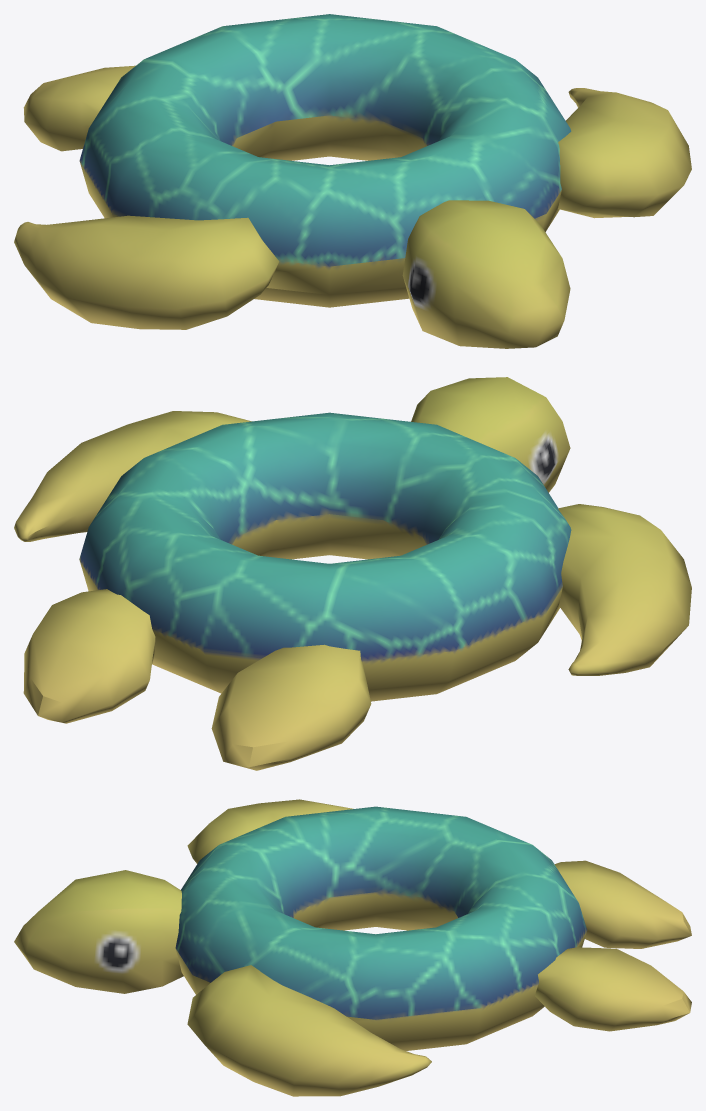
File: Phao6.fbx
The picture shows the model from 3 angles, top to bottom: view 1: azimuth 30°, elevation 25°; view 2: azimuth 150°, elevation 25°; view 3: azimuth 270°, elevation 25°; orthographic projection. The views are drawn at different scales.
Visible parts, largest first — view 1: Floatie_Turtle_M_FloatiesPack01_B_0.001; view 2: Floatie_Turtle_M_FloatiesPack01_B_0.001; view 3: Floatie_Turtle_M_FloatiesPack01_B_0.001.
Boxes of the visible parts, box(x1,y1,x2,y2) form: Floatie_Turtle_M_FloatiesPack01_B_0.001: box(14, 14, 691, 348); Floatie_Turtle_M_FloatiesPack01_B_0.001: box(14, 377, 691, 770); Floatie_Turtle_M_FloatiesPack01_B_0.001: box(14, 799, 691, 1096).
Size of the model in its own units: 1.93 by 0.3812 by 2.14.
